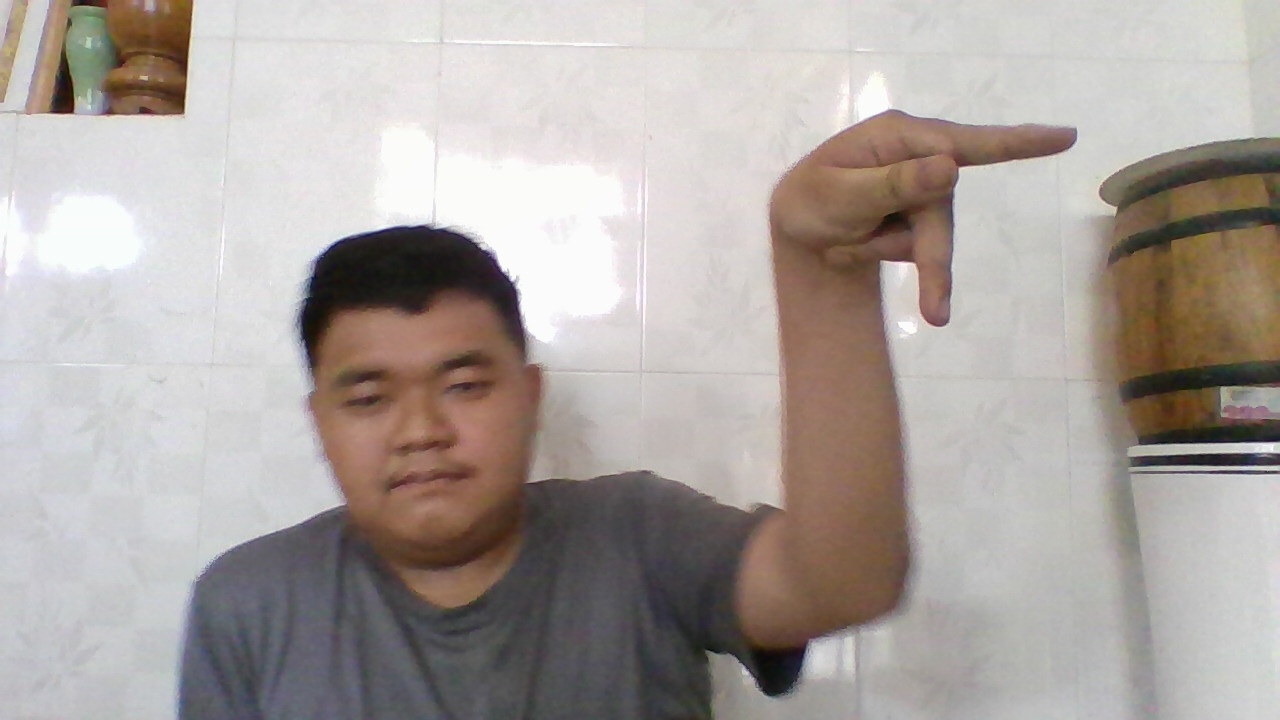P: (784, 112, 1084, 310)
